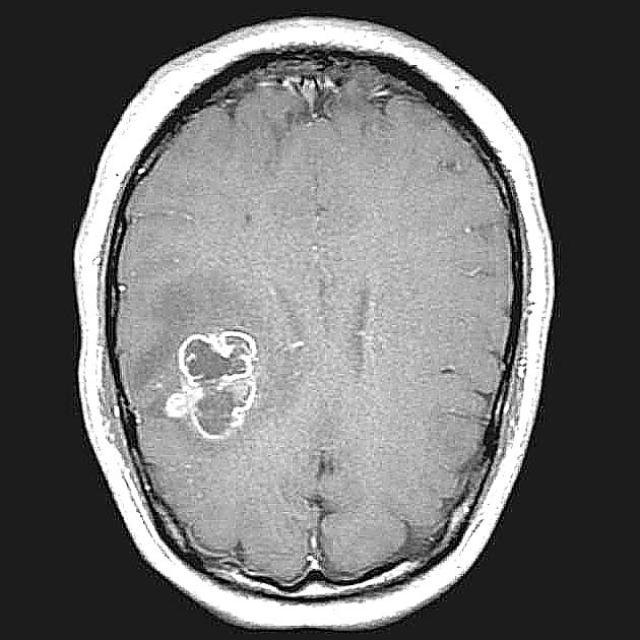Tumor: (164, 332, 257, 440)
